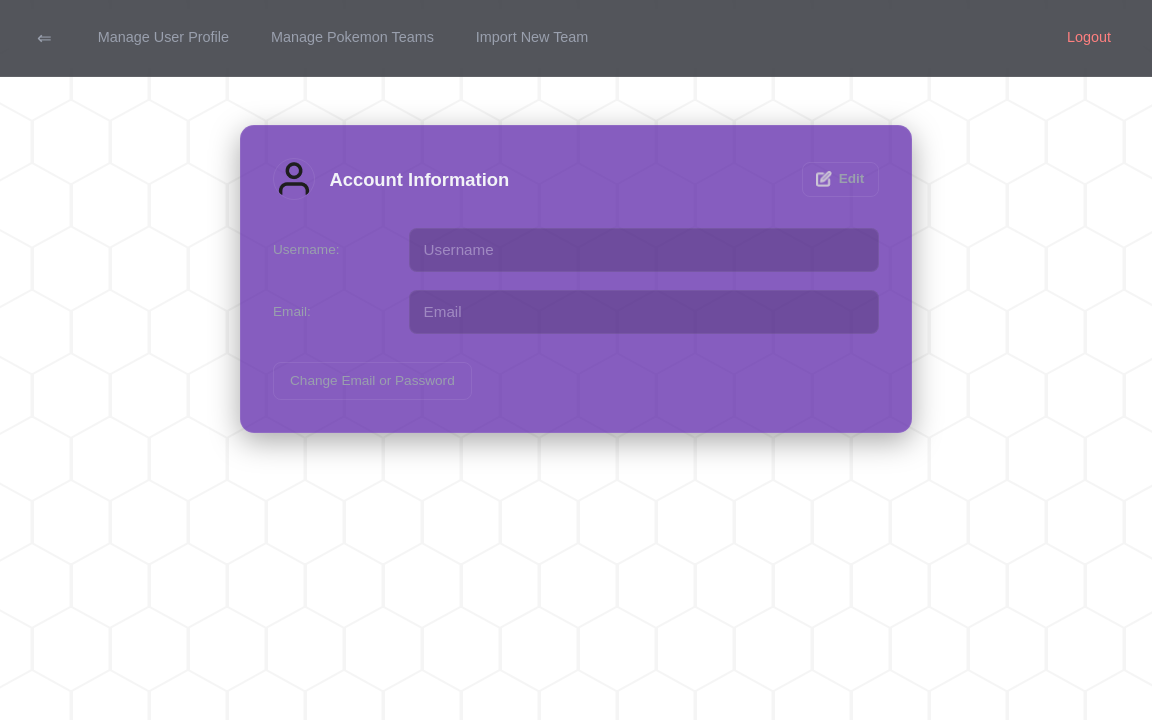
Test: UserSettings - profile tab › shows Save and an editable username after clicking Edit, and hides them on Cancel
The image size is (1152, 720).
Click the button "Edit".
click(840, 179)  # box left=802, top=162, right=879, bottom=197
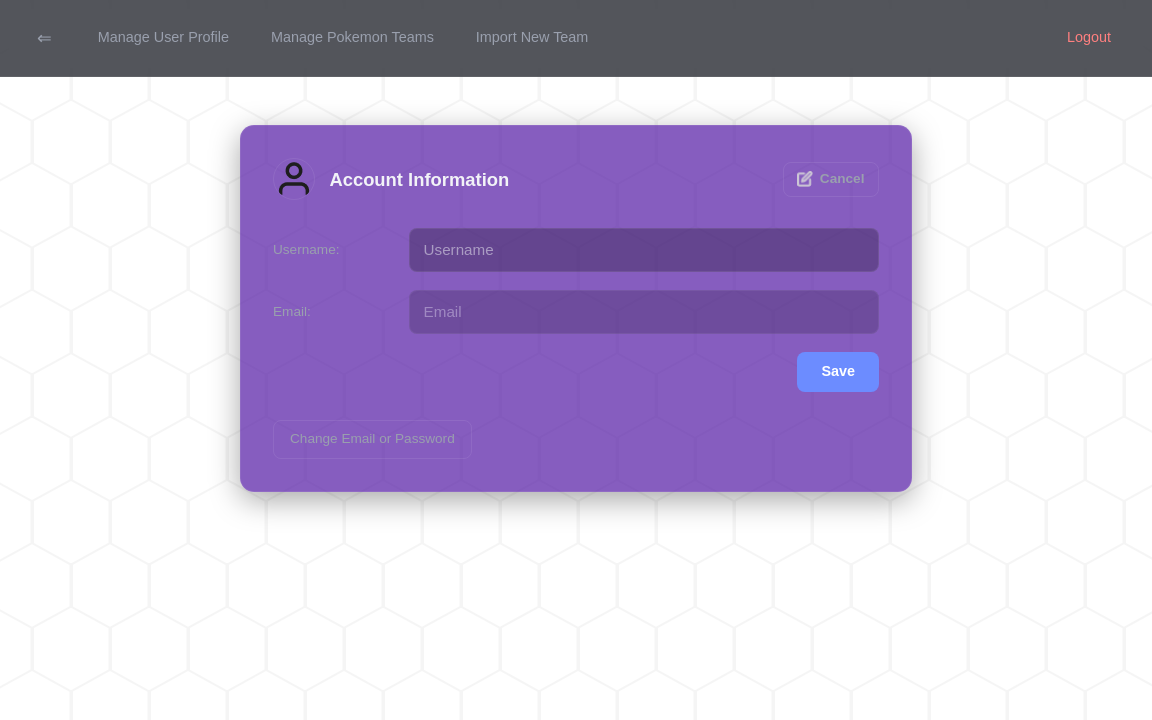
Expected: the button "Save" is shown, left=797, top=352, right=879, bottom=392
Click the button "Cancel".
click(831, 179)  # box left=783, top=162, right=879, bottom=197
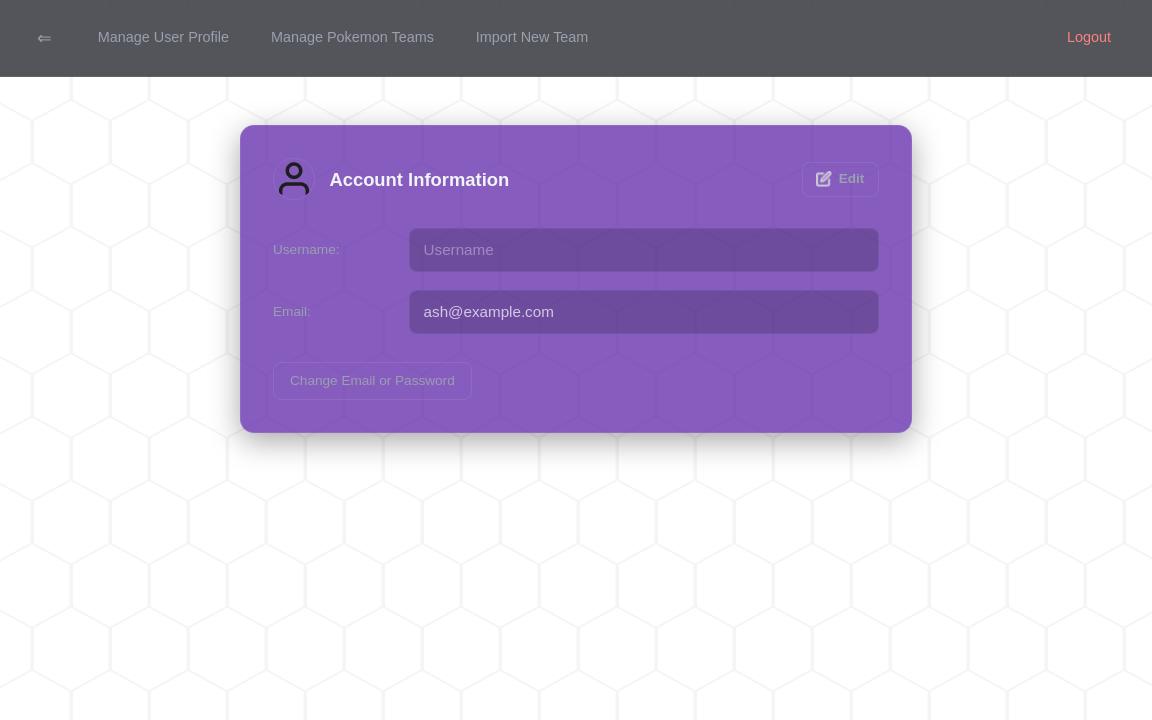
Expected: the button "Edit" is shown, left=802, top=162, right=879, bottom=197
Expected: the button "Save" is gone
